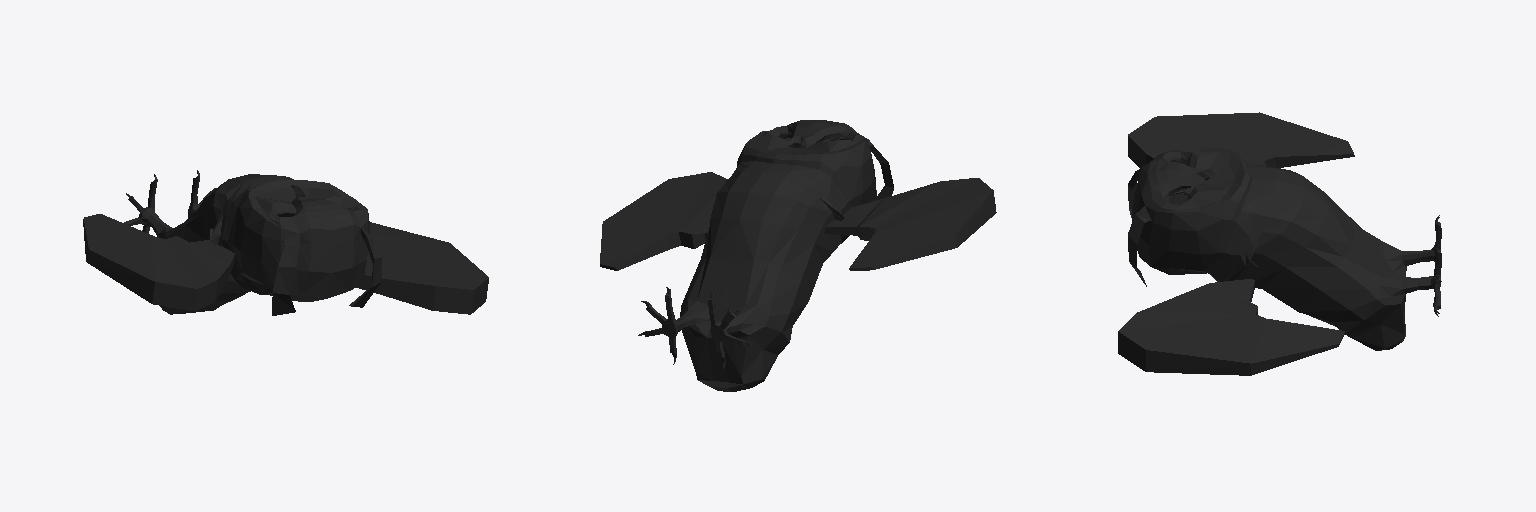
The model's file is owlbody.obj.
3 renders of one model, left to right at view 1: azimuth 30°, elevation 25°; view 2: azimuth 150°, elevation 25°; view 3: azimuth 270°, elevation 25°, orthographic.
Parts seen in each view (by area): view 1: Cube.009; view 2: Cube.009; view 3: Cube.009.
Boxes of the visible parts, x1,y1,x2,y2 form: Cube.009: [83, 170, 488, 315]; Cube.009: [600, 120, 996, 391]; Cube.009: [1118, 112, 1441, 375].
Size of the model in its own units: 1.13 by 0.552 by 0.8815.